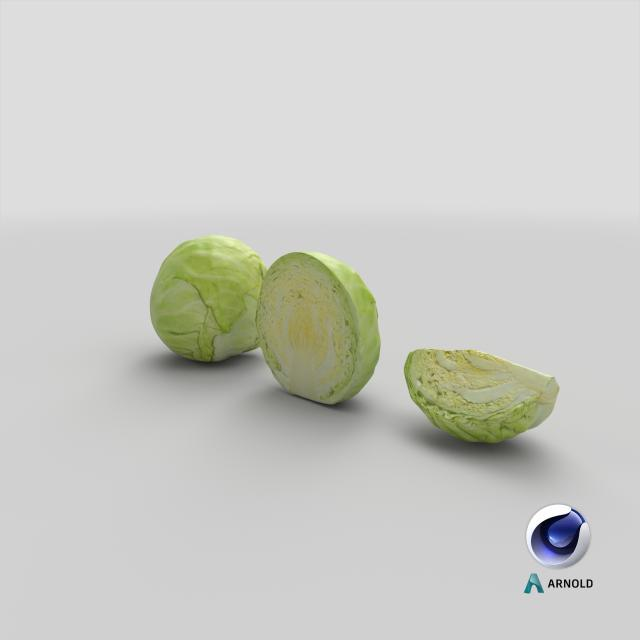cabbage: (147, 236, 281, 367)
haft-cabbage: (253, 249, 381, 409), (403, 343, 561, 446)
